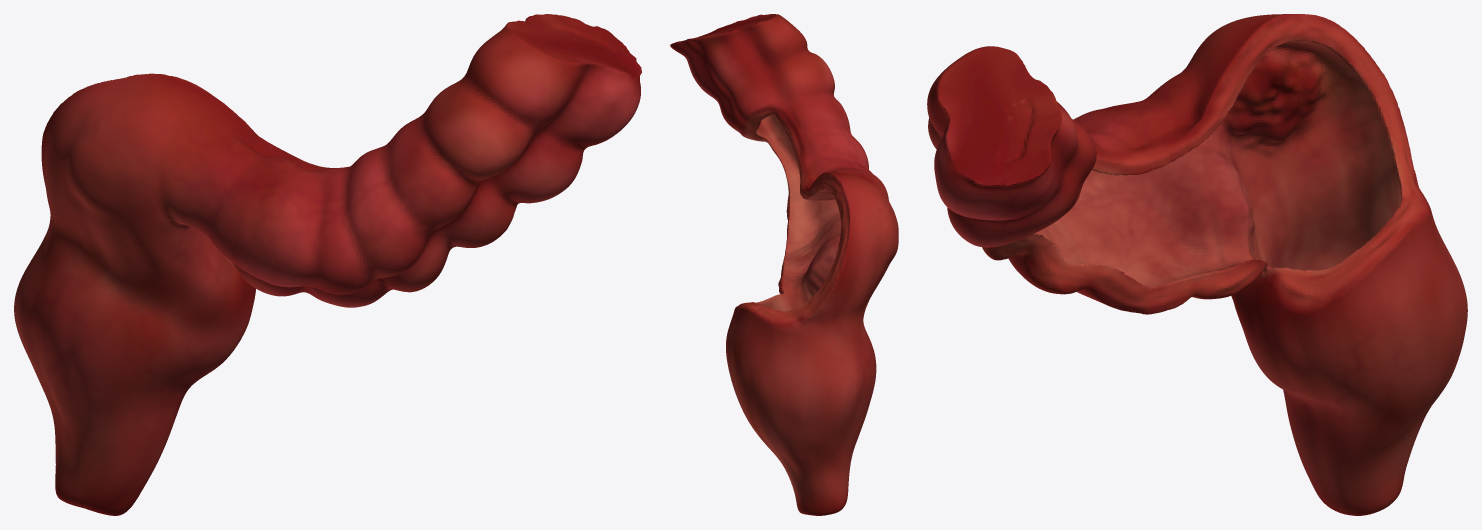
The model's file is stage-3-m-v1.glb.
3 renders of one model, left to right at view 1: azimuth 30°, elevation 25°; view 2: azimuth 150°, elevation 25°; view 3: azimuth 270°, elevation 25°, orthographic. The views are drawn at different scales.
Visible parts, largest first — view 1: BOOLEAN COLON HEALTHY; view 2: BOOLEAN COLON HEALTHY; view 3: BOOLEAN COLON HEALTHY.
Part boxes in pixels (bbox=[...]): BOOLEAN COLON HEALTHY: bbox=[14, 14, 641, 515]; BOOLEAN COLON HEALTHY: bbox=[670, 14, 898, 515]; BOOLEAN COLON HEALTHY: bbox=[927, 14, 1467, 515].
Bounding box in the file's own units: 0.3588 × 0.4251 × 0.3558.
